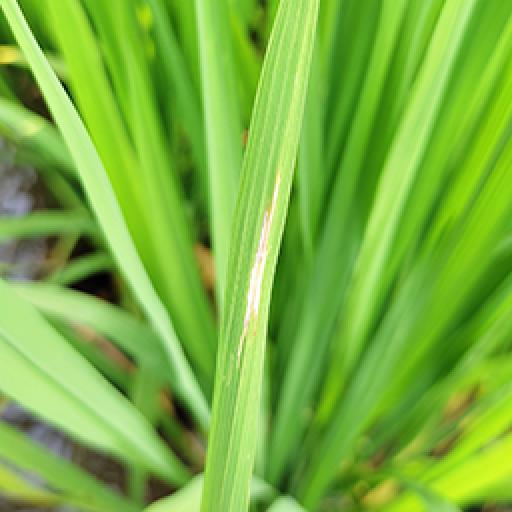Bacterial Leaf Blight: (212, 164, 308, 370)
